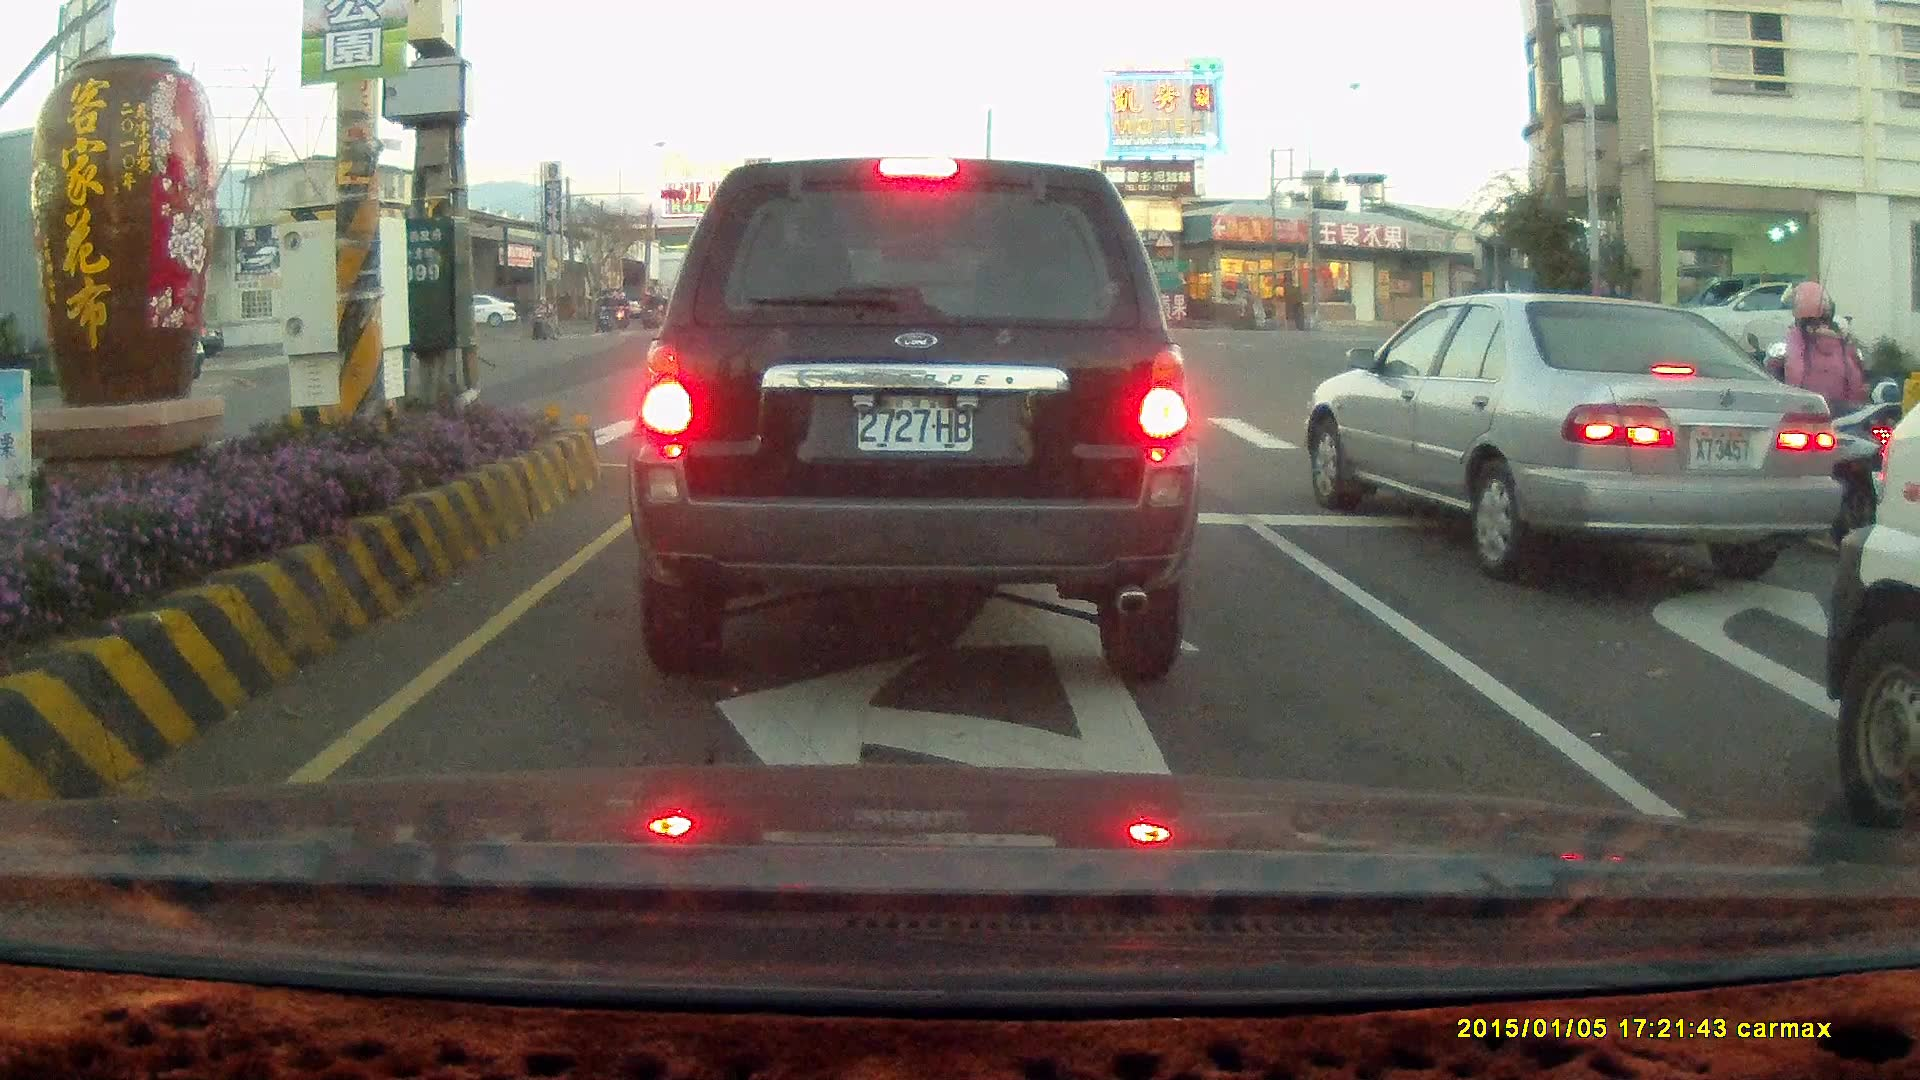rider: (1695, 274, 1915, 550), (527, 290, 562, 338), (593, 291, 614, 332), (617, 292, 638, 328), (643, 289, 664, 326)
vehicle: (625, 154, 1198, 684), (1302, 290, 1839, 583), (1315, 293, 1847, 579), (1815, 403, 1920, 842), (1652, 274, 1850, 368), (1668, 275, 1823, 373)
